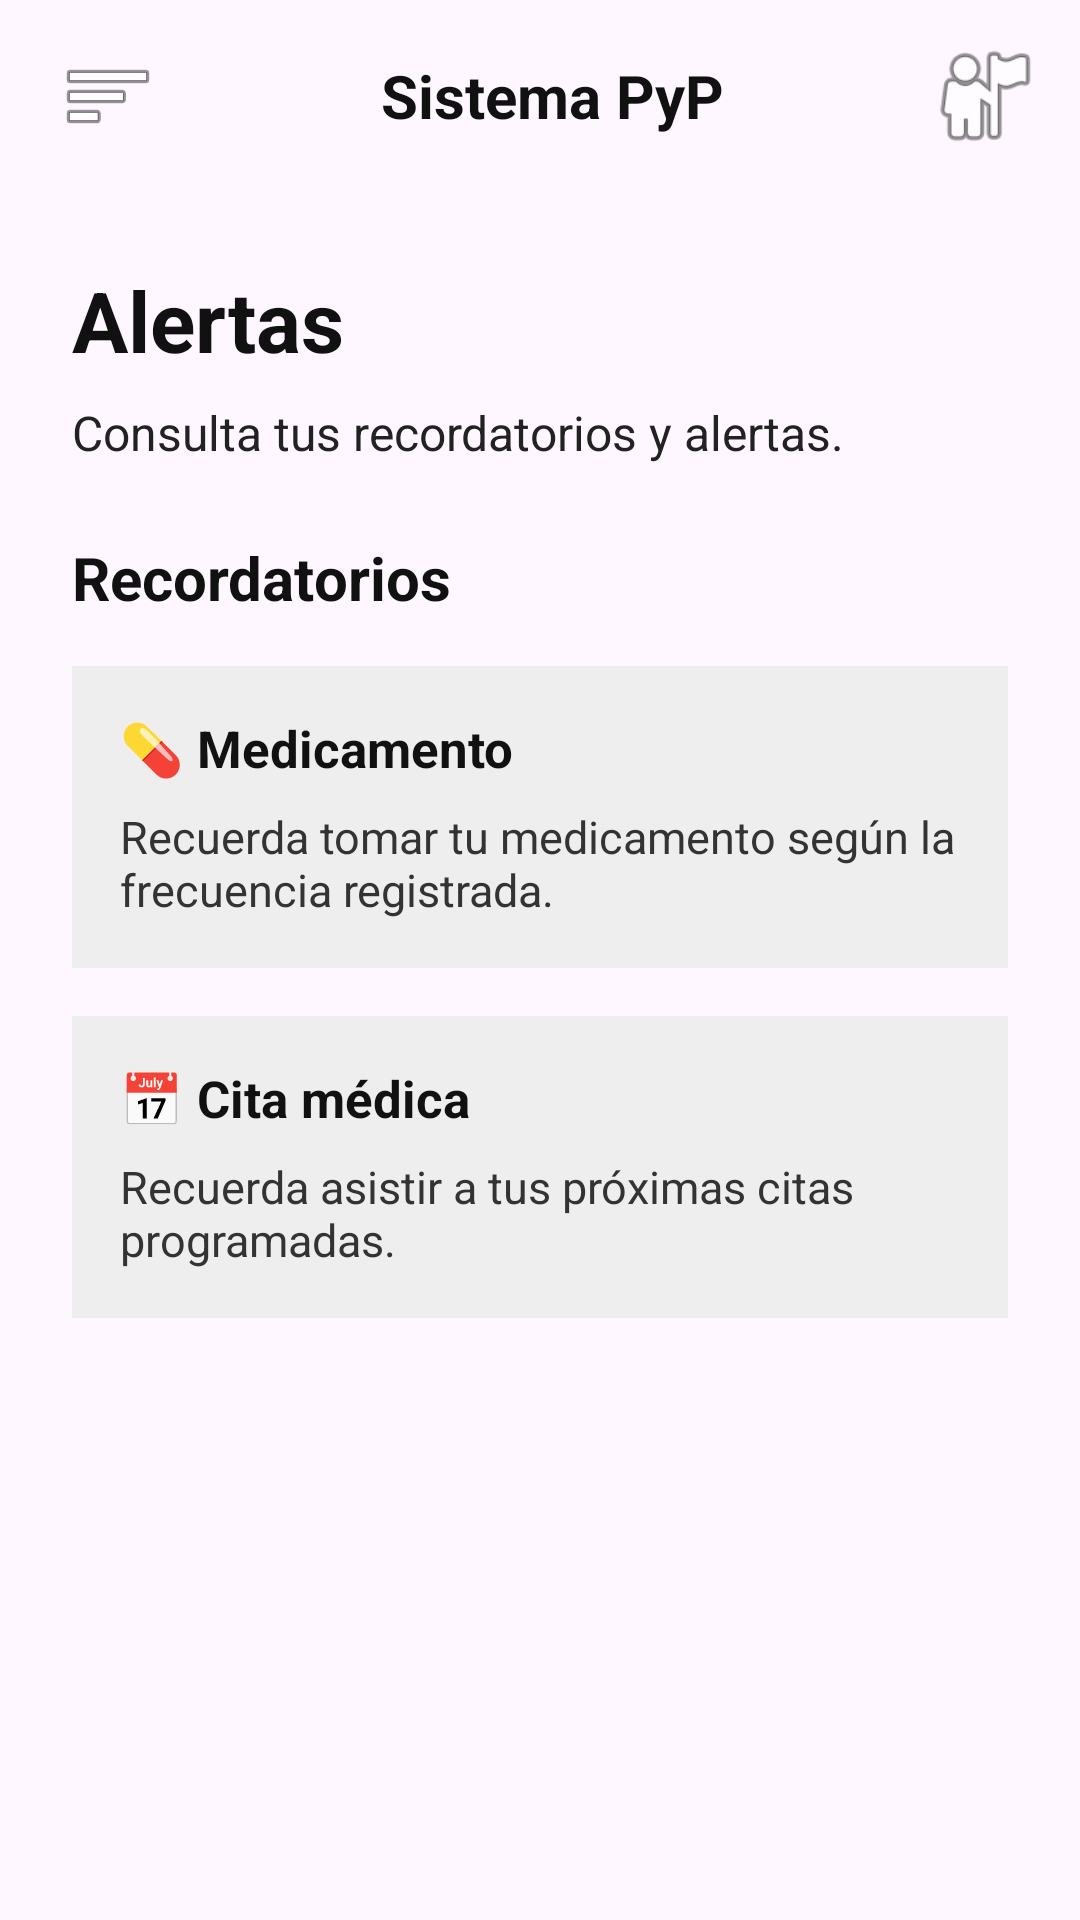

Where to tap for icons on this 1080 × 1920 app screen, as [x,y]:
Abrir menú: [108,96]
Perfil: [985,96]
